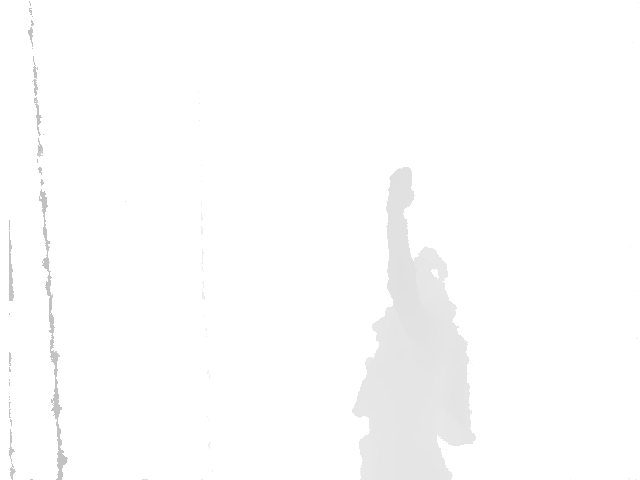hand: (383, 166, 416, 214)
head: (411, 245, 452, 324)
person: (348, 166, 479, 479)
